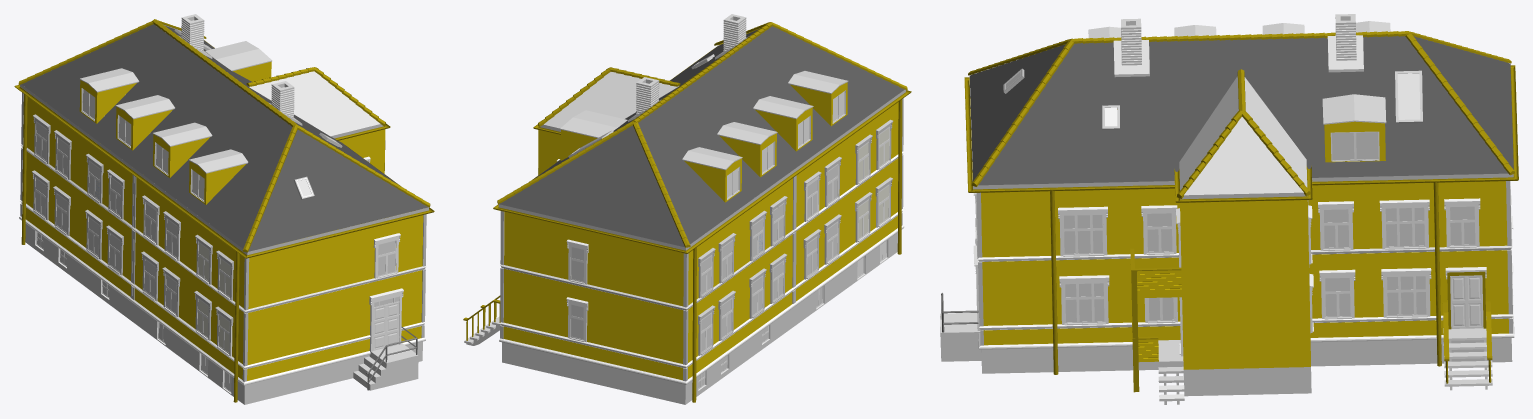
File: house_tile_2_1111.glb
3 renders of one model, left to right at view 1: azimuth 30°, elevation 25°; view 2: azimuth 150°, elevation 25°; view 3: azimuth 270°, elevation 25°, orthographic. The views are drawn at different scales.
Visible parts, largest first — view 1: SketchUp.874, SketchUp.871, SketchUp.865, SketchUp.002, SketchUp.511, SketchUp.484, SketchUp.001, SketchUp.872, SketchUp.015, SketchUp.057, SketchUp.052, SketchUp.734 (+19 smaller); view 2: SketchUp.874, SketchUp.871, SketchUp.002, SketchUp.865, SketchUp.511, SketchUp.484, SketchUp.001, SketchUp.872, SketchUp.057, SketchUp.052, SketchUp.734, SketchUp.522 (+14 smaller); view 3: SketchUp.871, SketchUp.874, SketchUp.868, SketchUp.865, SketchUp.002, SketchUp, SketchUp.511, SketchUp.872, SketchUp.734, SketchUp.057, SketchUp.484, SketchUp.019 (+30 smaller).
Boxes of the visible parts, bbox=[...] form: SketchUp.874: bbox=[25, 97, 423, 380]; SketchUp.871: bbox=[21, 24, 428, 251]; SketchUp.865: bbox=[249, 71, 380, 136]; SketchUp.002: bbox=[25, 224, 422, 404]; SketchUp.511: bbox=[14, 40, 434, 258]; SketchUp.484: bbox=[19, 216, 425, 385]; SketchUp.001: bbox=[109, 286, 199, 370]; SketchUp.872: bbox=[20, 84, 428, 255]; SketchUp.015: bbox=[353, 351, 418, 390]; SketchUp.057: bbox=[20, 200, 425, 369]; SketchUp.052: bbox=[21, 144, 426, 313]; SketchUp.734: bbox=[205, 41, 272, 71]; SketchUp.874: bbox=[503, 102, 898, 380]; SketchUp.871: bbox=[499, 26, 904, 247]; SketchUp.002: bbox=[502, 232, 897, 404]; SketchUp.865: bbox=[544, 72, 678, 128]; SketchUp.511: bbox=[493, 48, 911, 253]; SketchUp.484: bbox=[499, 225, 904, 384]; SketchUp.001: bbox=[770, 262, 857, 343]; SketchUp.872: bbox=[498, 89, 905, 250]; SketchUp.057: bbox=[499, 209, 903, 368]; SketchUp.052: bbox=[500, 153, 902, 310]; SketchUp.734: bbox=[560, 110, 627, 138]; SketchUp.522: bbox=[790, 82, 847, 126]; SketchUp.871: bbox=[969, 36, 1513, 185]; SketchUp.874: bbox=[981, 109, 1508, 345]; SketchUp.868: bbox=[1180, 200, 1310, 369]; SketchUp.865: bbox=[1179, 76, 1307, 195]; SketchUp.002: bbox=[981, 338, 1512, 373]; SketchUp: bbox=[1183, 366, 1311, 396]; SketchUp.511: bbox=[964, 65, 1518, 192]; SketchUp.872: bbox=[969, 77, 1513, 189]; SketchUp.734: bbox=[1322, 94, 1386, 124]; SketchUp.057: bbox=[975, 218, 1513, 330]; SketchUp.484: bbox=[975, 240, 1514, 349]; SketchUp.019: bbox=[1137, 270, 1181, 298].
Bounding box in the file's own units: 13.74 × 13.47 × 22.92.
